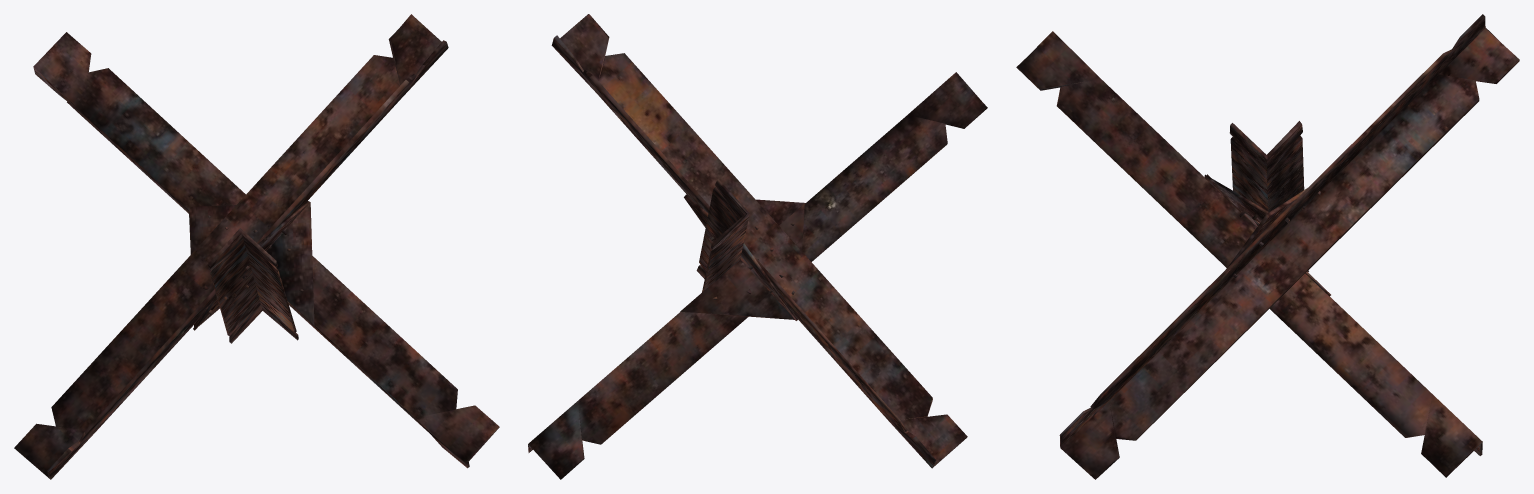
Rendered from hedgehog2.obj.
The picture shows the model from 3 angles, left to right: view 1: azimuth 30°, elevation 25°; view 2: azimuth 150°, elevation 25°; view 3: azimuth 270°, elevation 25°; orthographic projection. The views are drawn at different scales.
Parts seen in each view (by area): view 1: hedgehog; view 2: hedgehog; view 3: hedgehog.
Boxes of the visible parts, x1,y1,x2,y2 form: hedgehog: (14,14,499,479); hedgehog: (528,14,987,479); hedgehog: (1016,14,1519,479).
Size of the model in its own units: 54.17 by 46.3 by 55.38.
Materials: 1 (1 with a texture image).
